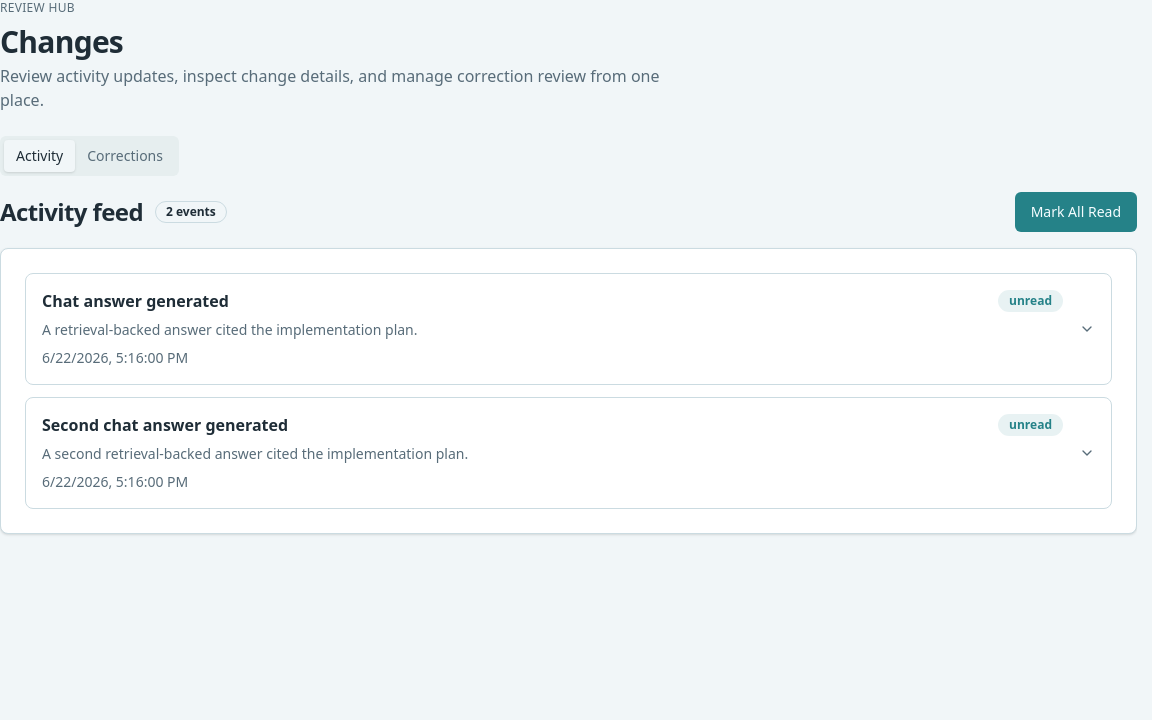
Test: ChangesPage › shows an error and refetches activity data if mark all read fails
Click the button "Chat answer generated": (135, 301) [26, 274, 1111, 384]
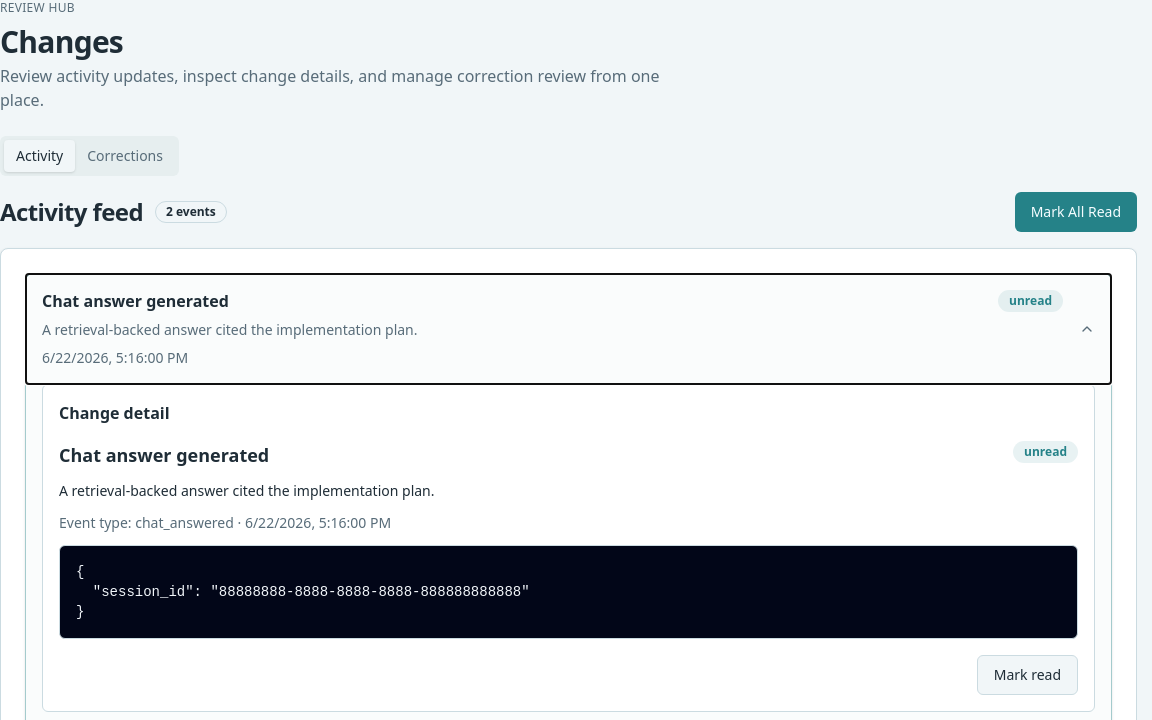
Result: the button "Mark read" is shown at [977, 655, 1078, 695]
Click the button "Mark All Read": (1076, 212) [1015, 192, 1137, 232]
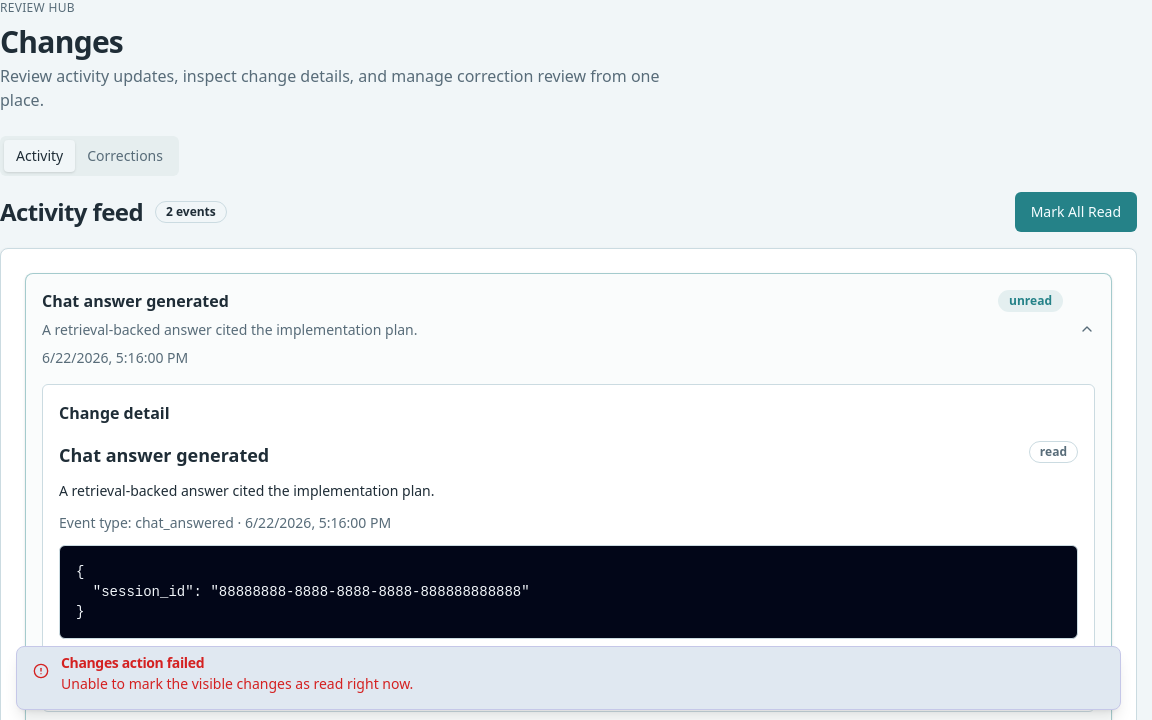
Result: the message with test id "changes-action-banner" shows "Changes action failed" at [61, 653, 204, 672]
Result: the message with test id "changes-action-banner" shows "Unable to mark the visible changes as read right now." at [61, 674, 413, 693]
